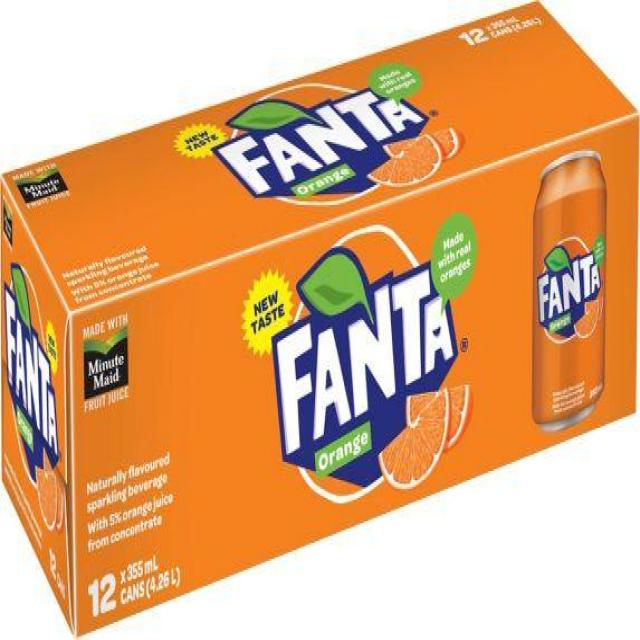fanta: (535, 140, 610, 427)
